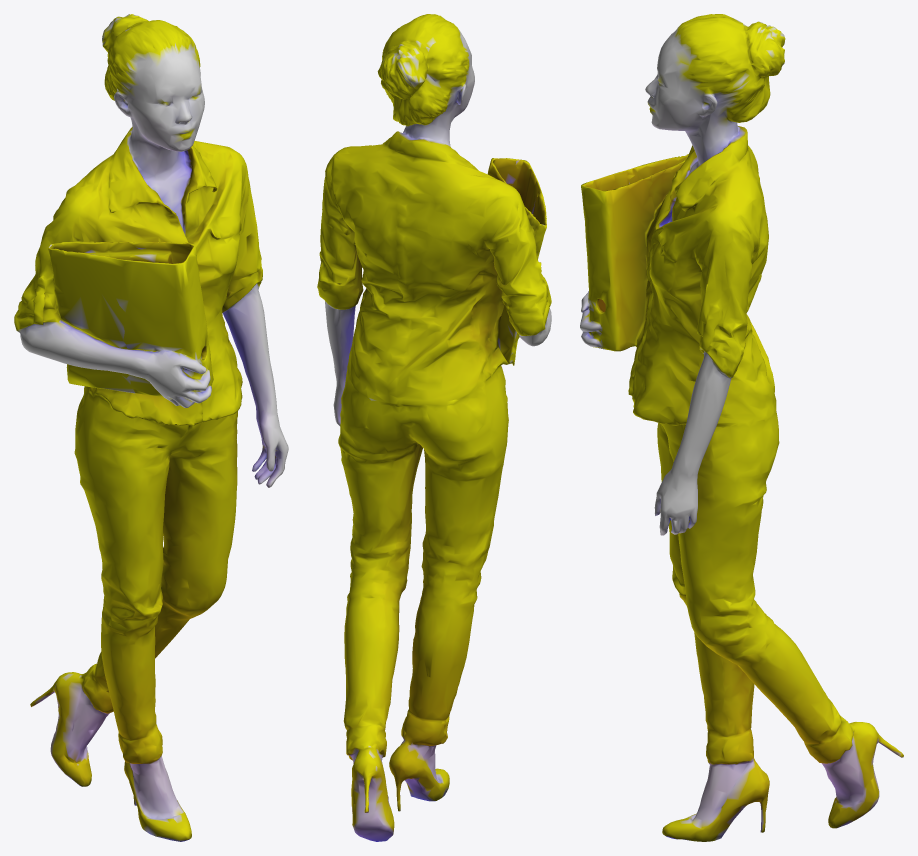
The model's file is mei.glb.
3 views of the same model, side by side, from view 1: azimuth 30°, elevation 25°; view 2: azimuth 150°, elevation 25°; view 3: azimuth 270°, elevation 25° (orthographic). The views are drawn at different scales.
Visible parts, largest first — view 1: person; view 2: person; view 3: person.
Part boxes in pixels (x1,y1,x2,y2): person: [14, 14, 288, 841]; person: [317, 14, 551, 841]; person: [580, 14, 903, 841].
Bounding box in the file's own units: 0.5364 × 1.7 × 0.6116.
